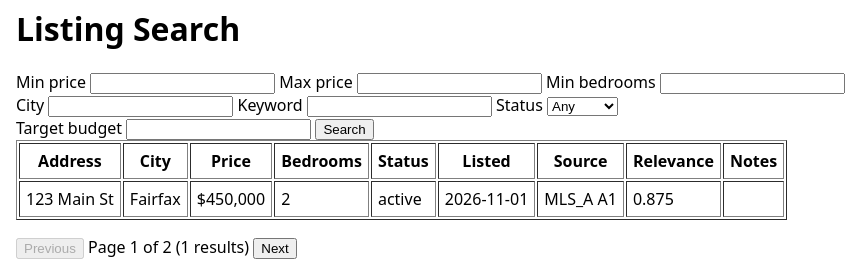
Test: App › Next requests the next page and Previous is disabled on page 1
Expected: the text "Previous Page 1 of 2 (1 results) Next" is shown, [16,236,297,259]
Expected: the button "Previous" is disabled, [16,238,84,259]
Click the button "Next": {"x": 275, "y": 249} [253,238,297,259]
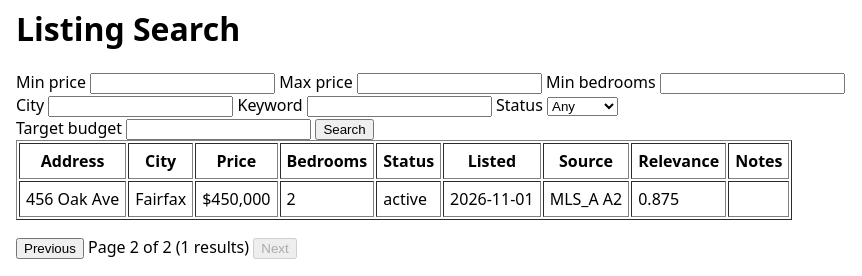
Expected: the text "456 Oak Ave" is shown, [19,181,126,217]
Expected: the button "Next" is disabled, [253,238,297,259]
Expected: the button "Previous" is enabled, [16,238,84,259]
